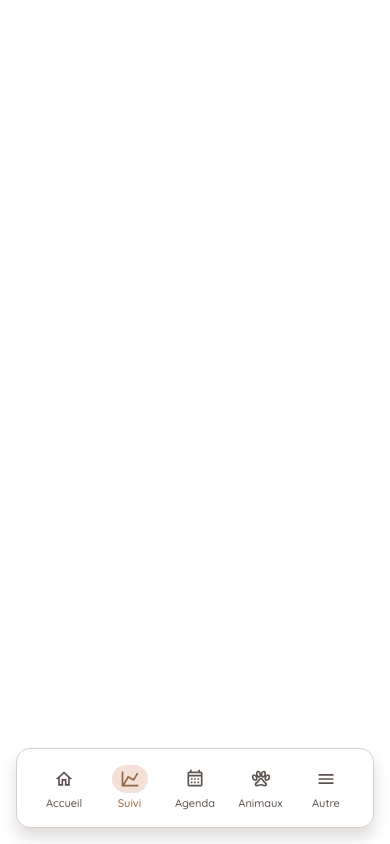
it: CompactNavigation Vasco › reste visible sur Suivi et propose Objectifs ou Statistiques sans redirection immédiate
This screenshot has width=390, height=844.
Expected: the navigation bar named "Navigation principale" is shown, left=16, top=748, right=374, bottom=828
What coordinates should you click on to do the following:
click the button "Suivi"
I would click on:
 (130, 788)
Its box is left=98, top=760, right=160, bottom=816.
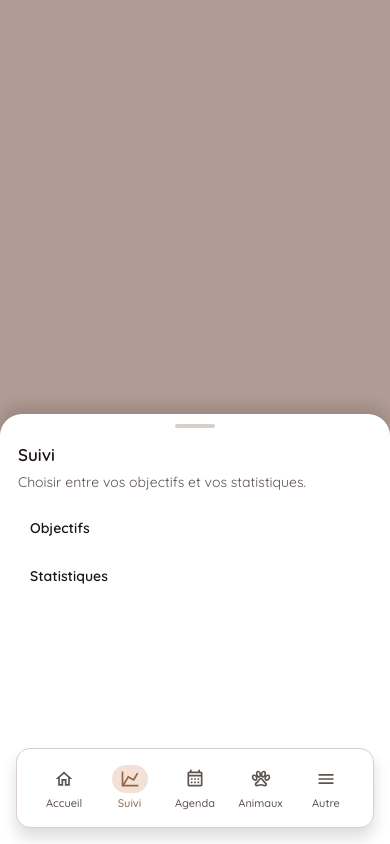
Expected: the navigation bar named "Destinations de suivi" is shown, left=30, top=519, right=108, bottom=585
